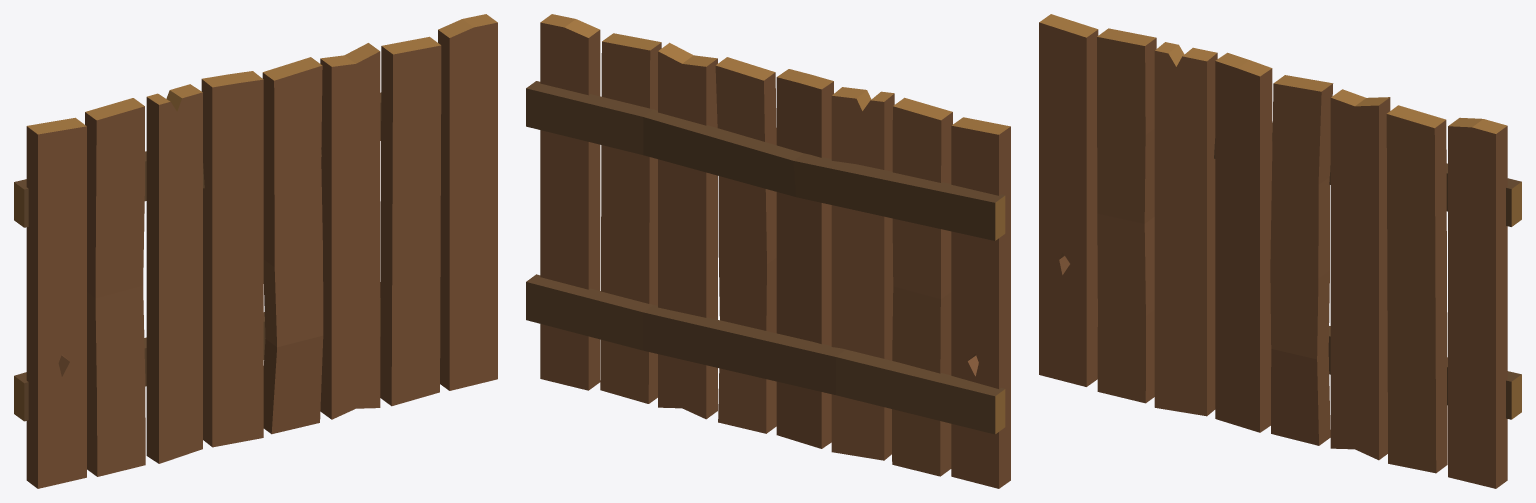
The model's file is fence-classic.glb.
3 views of the same model, side by side, from view 1: azimuth 30°, elevation 25°; view 2: azimuth 150°, elevation 25°; view 3: azimuth 330°, elevation 25° (orthographic).
Parts seen in each view (by area): view 1: fence-classic; view 2: fence-classic; view 3: fence-classic.
Part boxes in pixels (box(x1,y1,x2,y2)): fence-classic: box(14, 14, 497, 488); fence-classic: box(526, 14, 1010, 488); fence-classic: box(1039, 14, 1521, 488).
Bounding box in the file's own units: 2 × 1.47 × 0.1923.
1 material, 1 textured.
